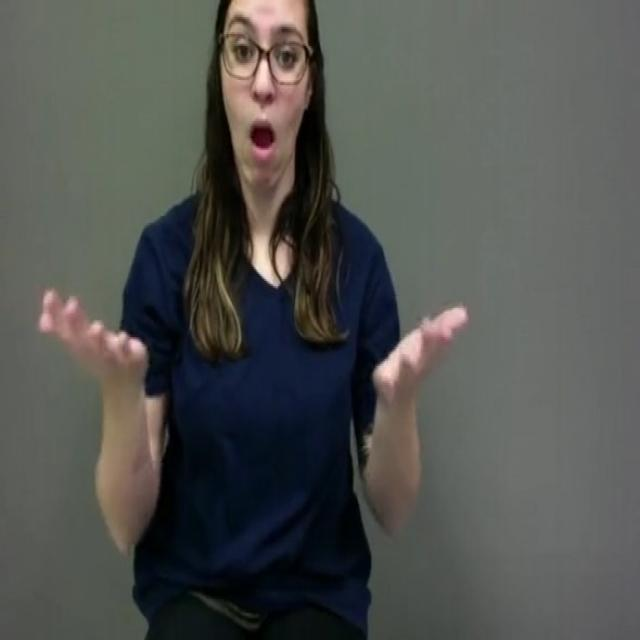what: (22, 273, 477, 408)
